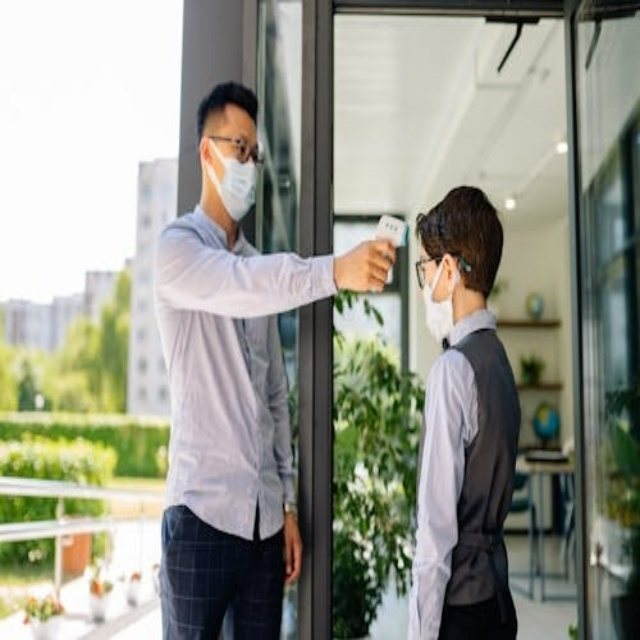Gafas: (415, 252, 470, 289), (206, 135, 265, 165)
Mascara: (205, 139, 259, 220), (422, 259, 460, 347)
Sin_guantes: (345, 237, 398, 295), (275, 504, 302, 580)
